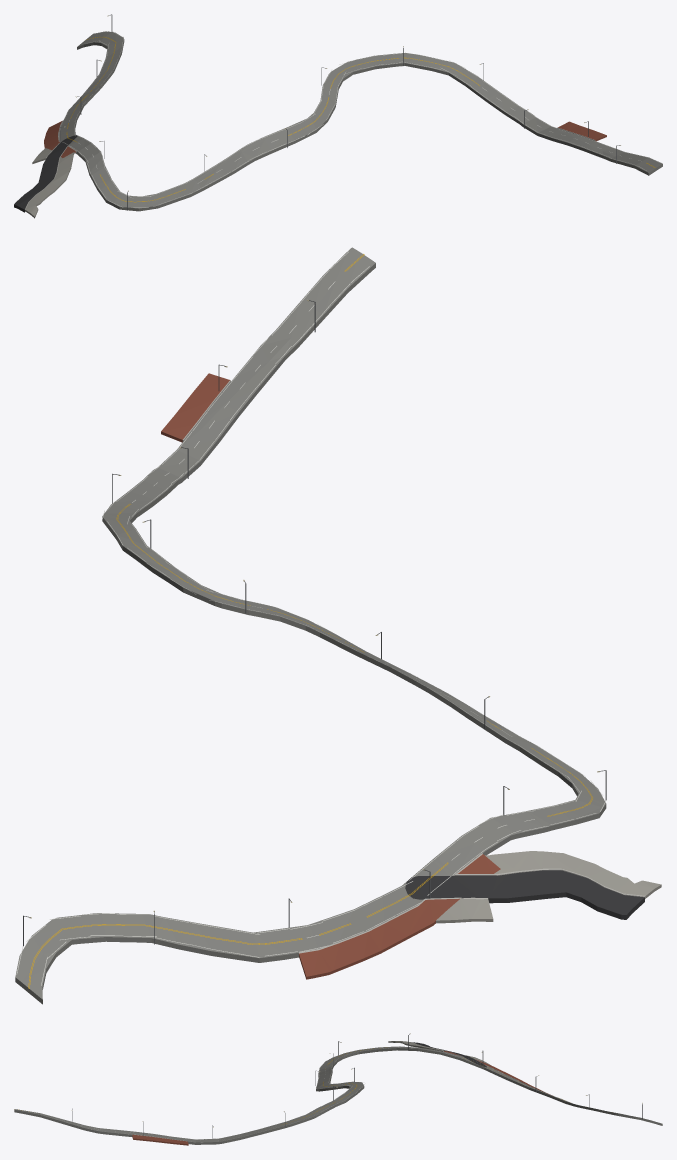
The picture shows the model from 3 angles, top to bottom: view 1: azimuth 30°, elevation 25°; view 2: azimuth 150°, elevation 25°; view 3: azimuth 270°, elevation 25°; orthographic projection. The views are drawn at different scales.
Size of the model in its own units: 184 by 53.73 by 292.
